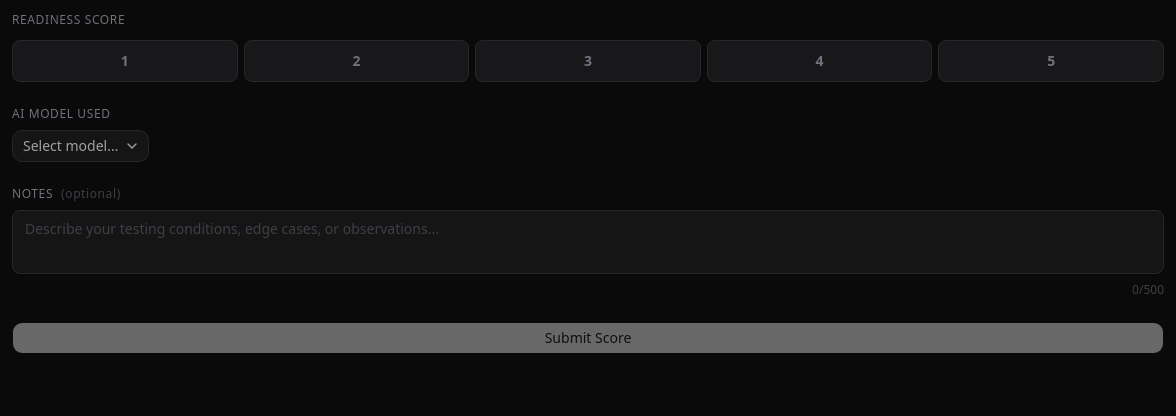
Scenario: VoteForm — authenticated › shows the score label and hint after a score is selected
Click the button "3" at (588, 61), box [475,40,701,82]
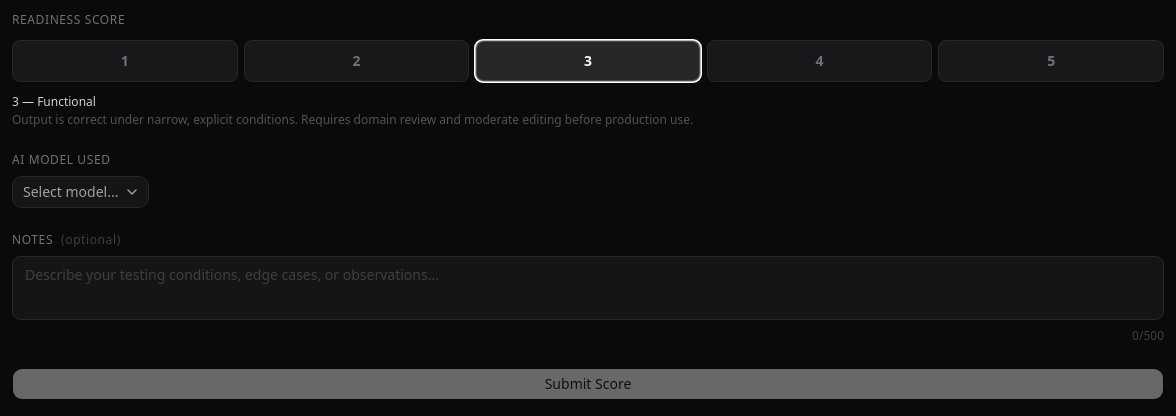
Result: the text "3 — Functional" is shown at [12,93,96,110]
Result: the text "domain review" is shown at [12,111,693,128]
